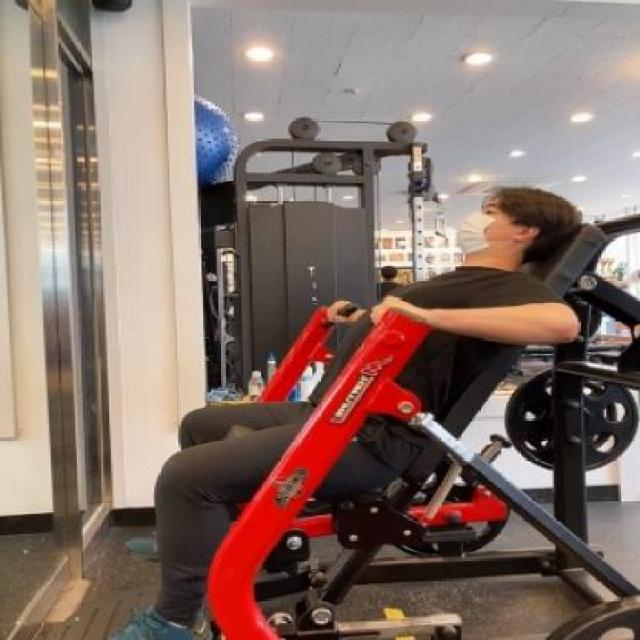Chest Press machine: (98, 180, 640, 638)
